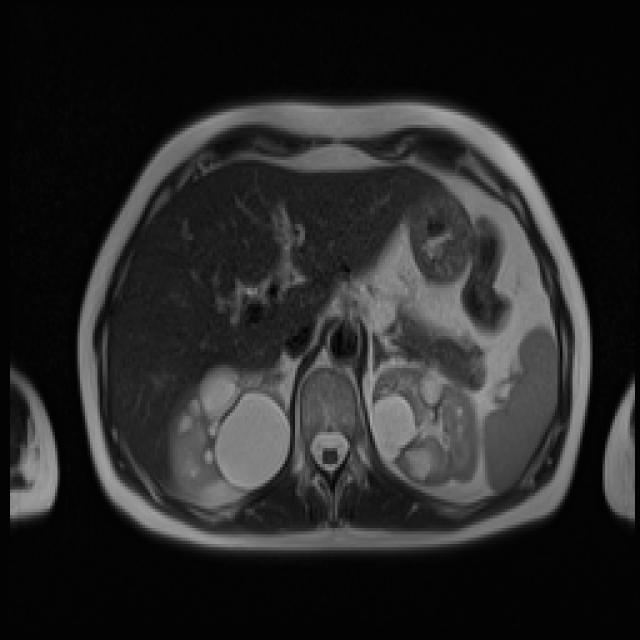sag: (165, 363, 291, 504)
sol: (369, 363, 478, 488)
